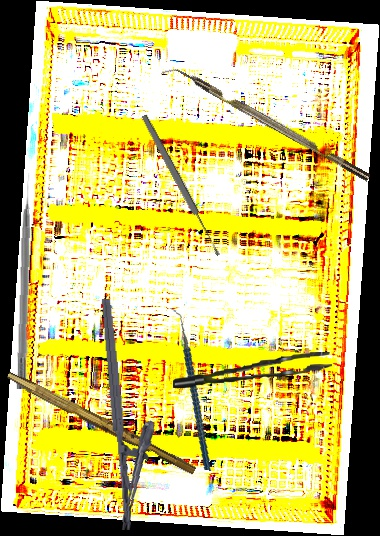Chopper: (160, 58, 371, 192), (143, 307, 236, 471)
Needle Holder: (99, 295, 165, 531)
Pusher: (16, 172, 36, 390)
Scalpel Handle: (3, 370, 199, 477)
Surgical Spoon: (139, 113, 223, 258)
Tissue Forceps: (172, 351, 333, 389)
